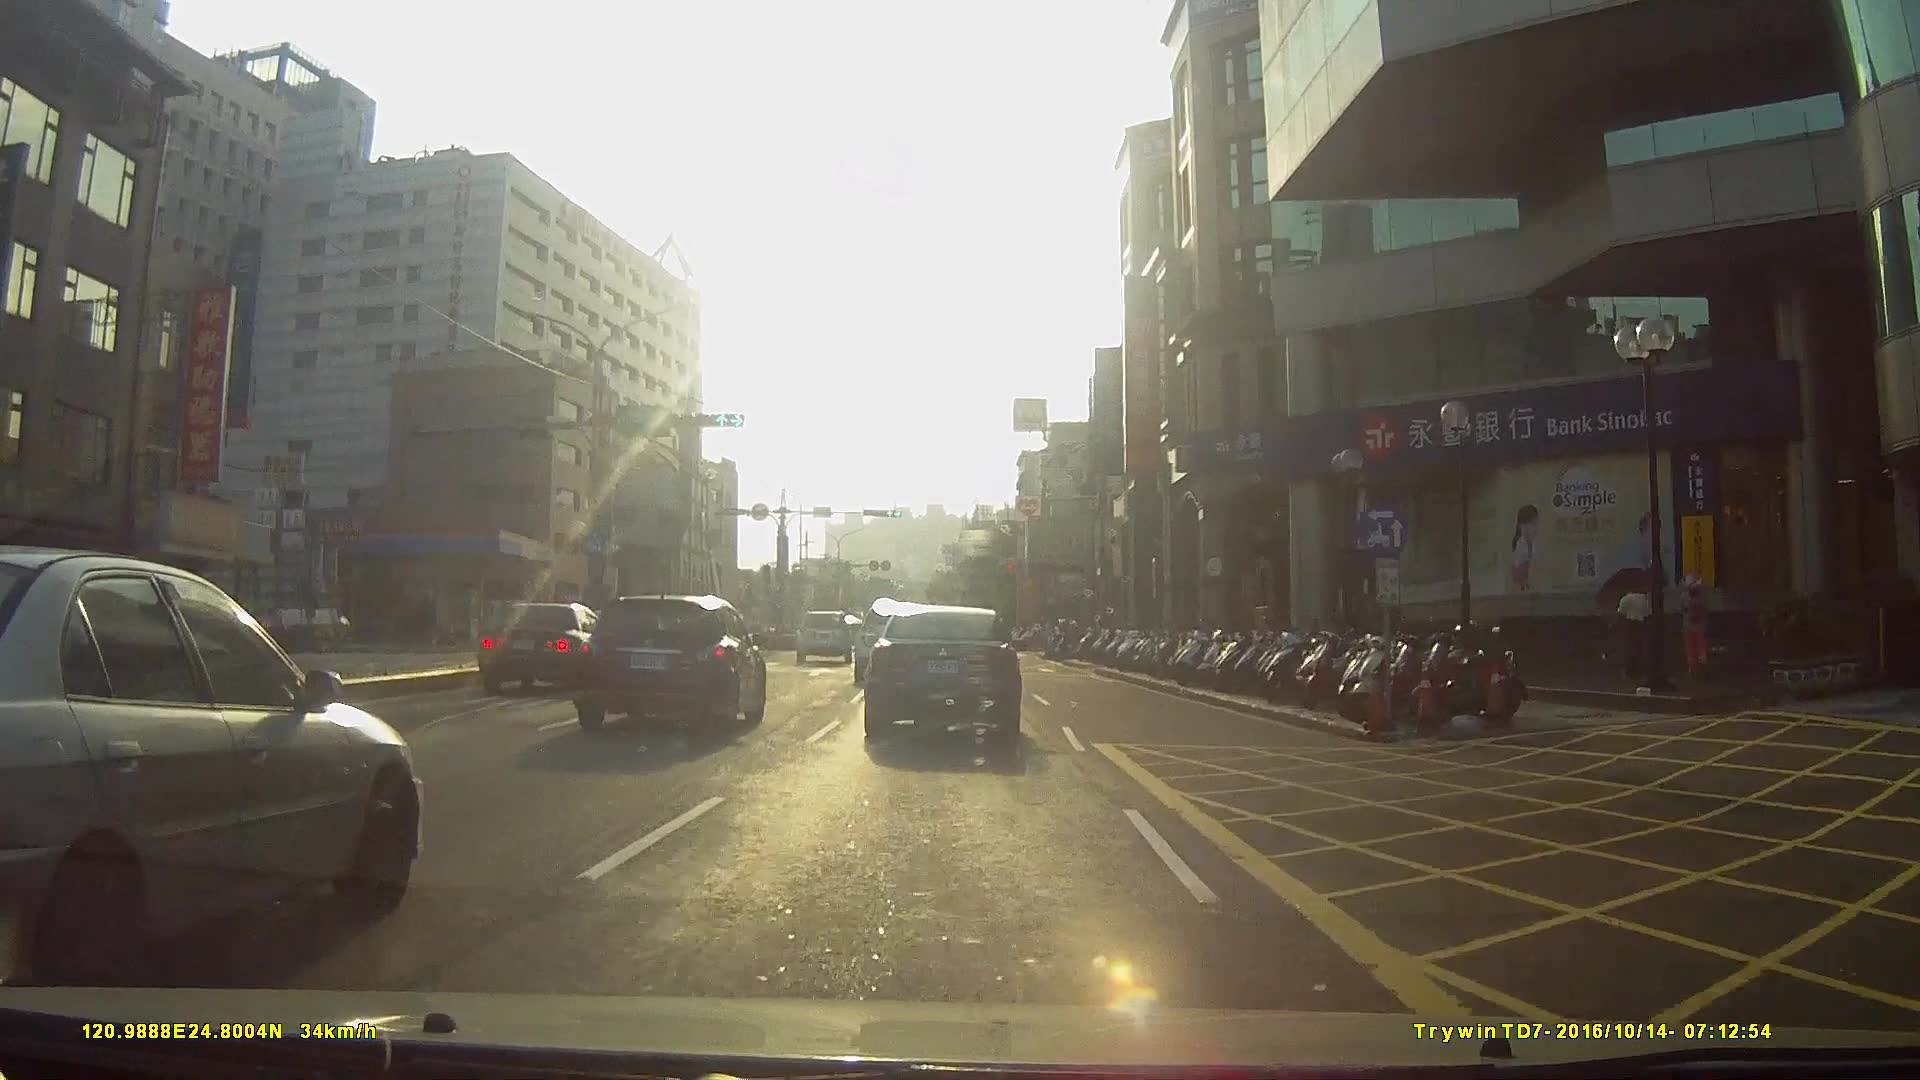pedestrian: (1677, 565, 1725, 704), (1613, 570, 1660, 688)
vehicle: (0, 541, 411, 1014), (563, 589, 759, 733), (861, 604, 1020, 747), (481, 601, 631, 695), (797, 609, 855, 667)
